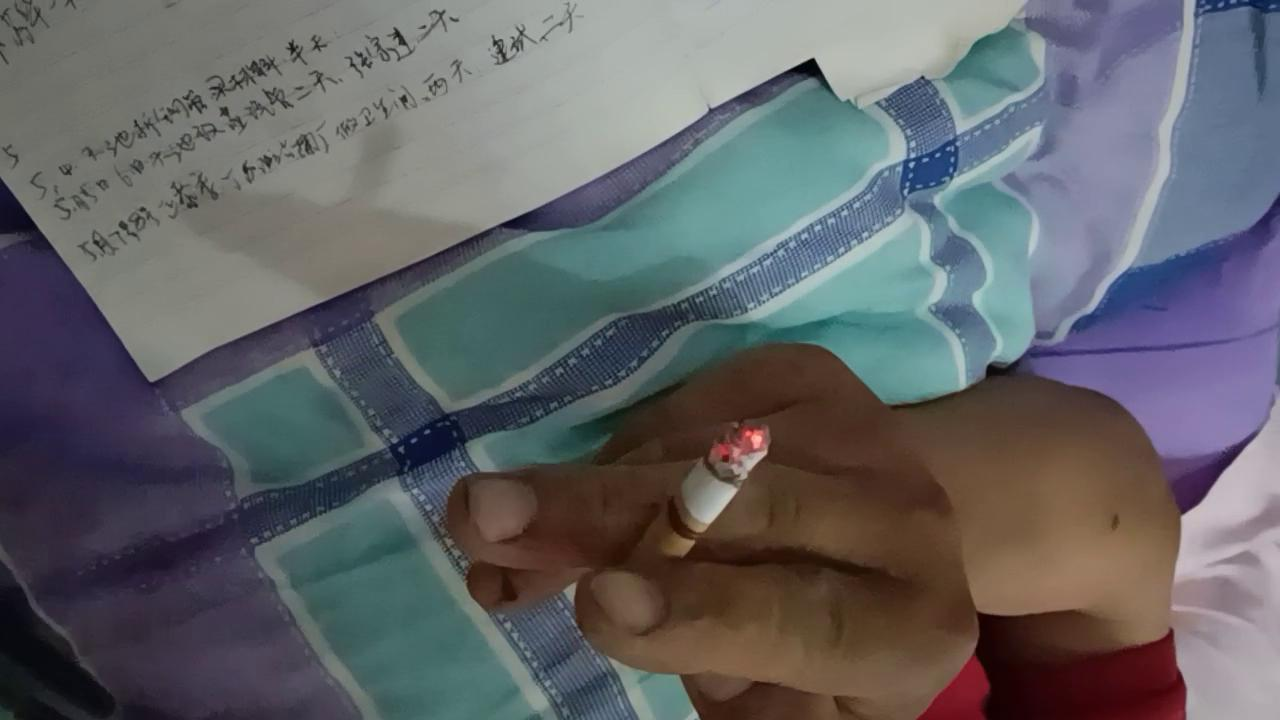smoke: (601, 420, 774, 618)
